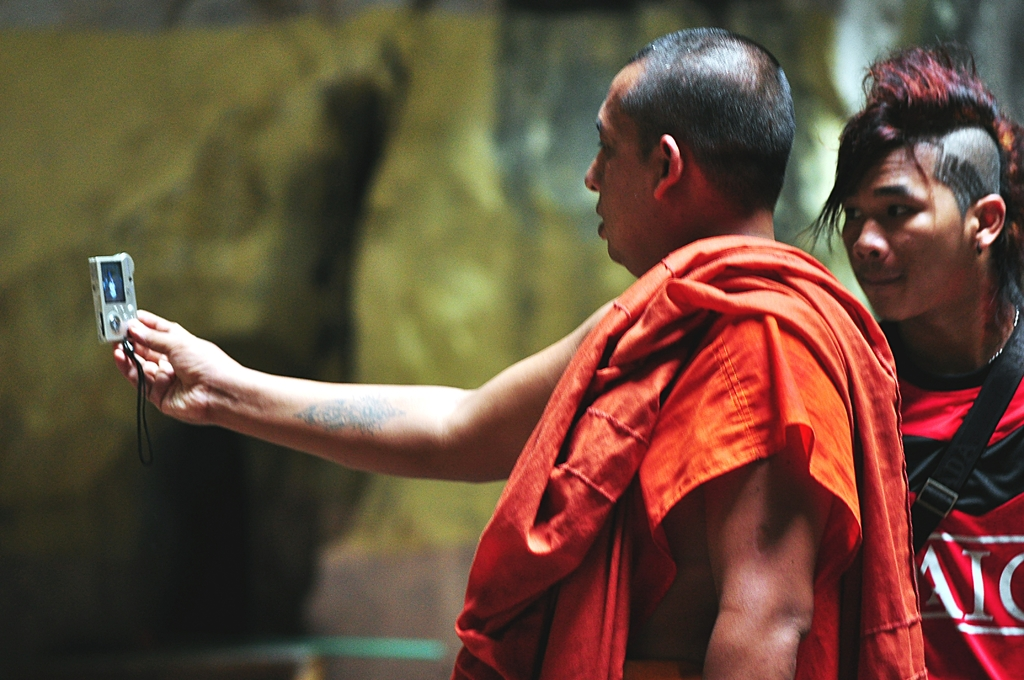Human_hand: (102, 295, 291, 454)
